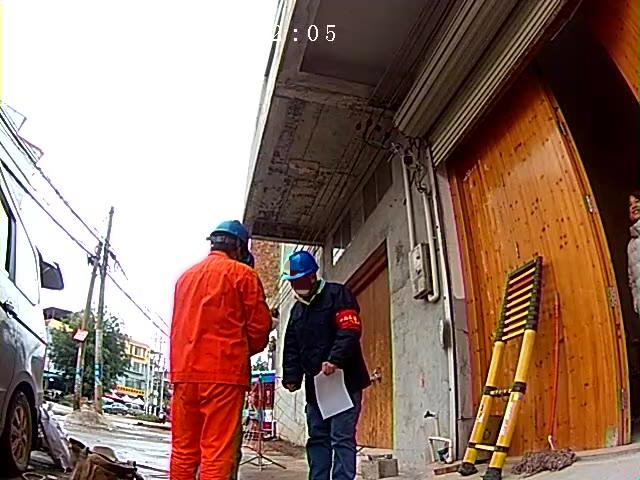halt: (286, 253, 324, 302), (209, 222, 253, 259)
